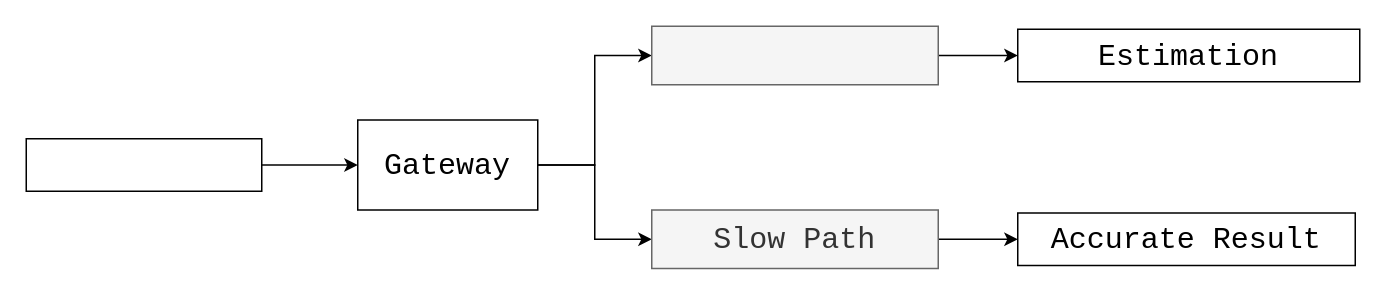
Image size: 1386x296. Some labels were removed from this diagram. Each missing label, with the centre of its shape:
"Data Arrival" belongs at [143,164].
"Fast Path" belongs at [794,55].
